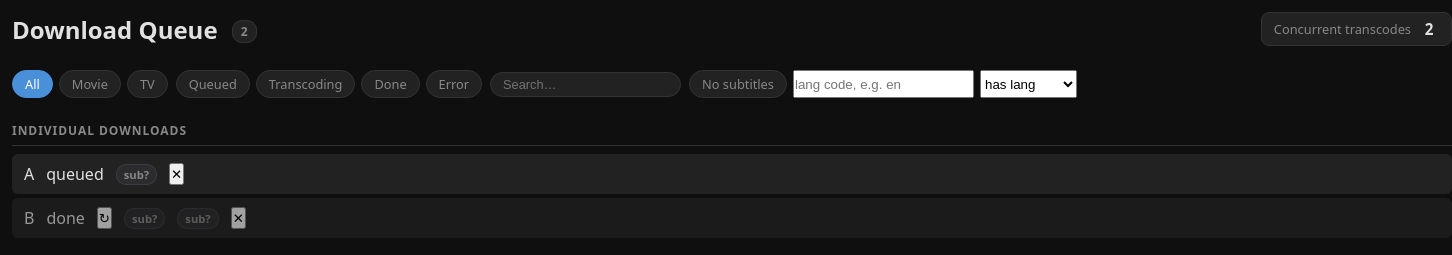
it: QueueView › count badge reflects filtered count
Click the button with test id "chip-status-DONE": coordinates (390, 84) 361,70 -> 420,98
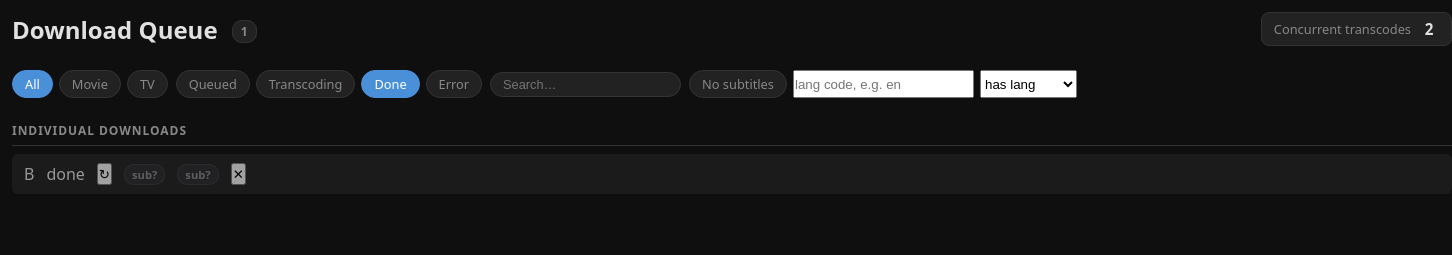
expect the text with test id "count-badge" reads "1": met, box 241,24 -> 248,40
